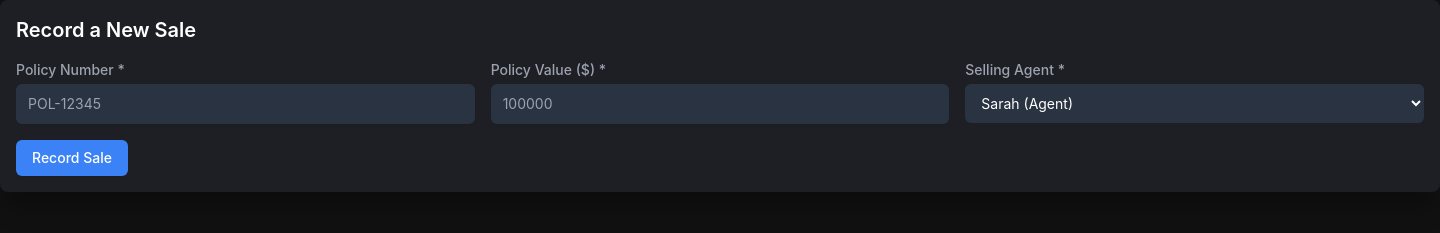
SalesForm Component › shows validation error for policy number less than 3 characters
The width and height of the screenshot is (1440, 233).
Note: Type short policy number
Type "AB" into the field labelled "Policy Number *".
click(245, 104); type("AB")  # box [16,84,475,124]
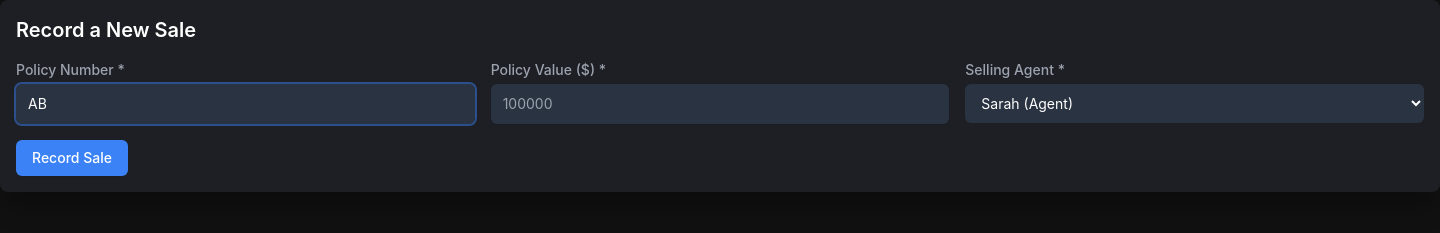
Type "50000" into the number field labelled "Policy Value ($) *".
click(720, 104); type("50000")  # box [491,84,949,124]
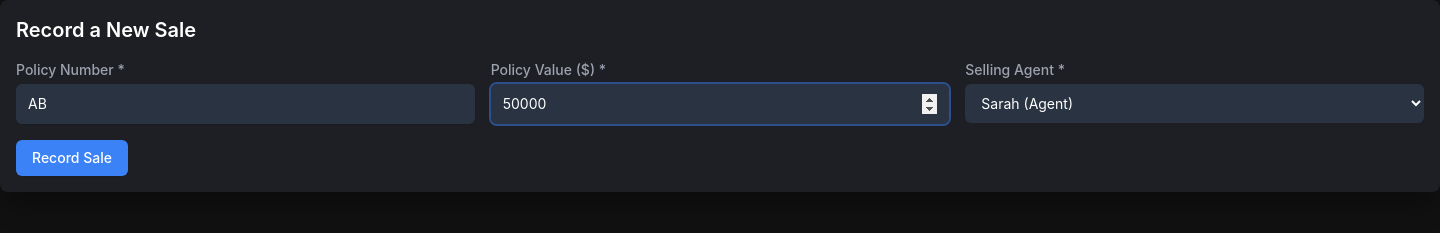
Click the button "Record Sale".
click(72, 158)  # box [16,140,128,176]
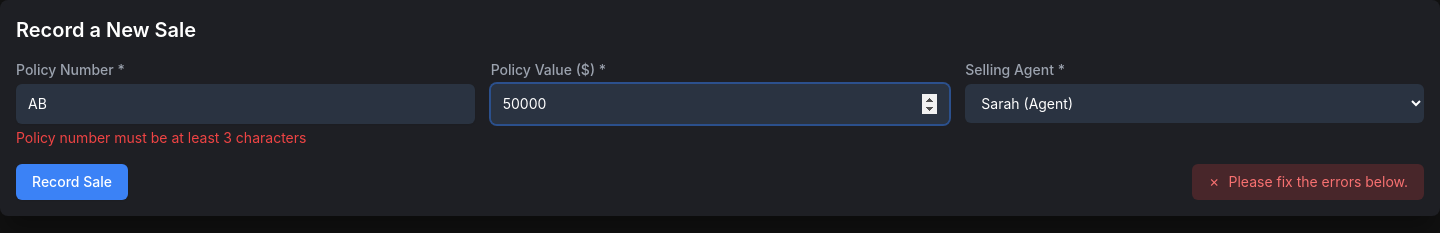
Now the text "Policy number must be at least 3 characters" is shown, box [16,129,306,146]
